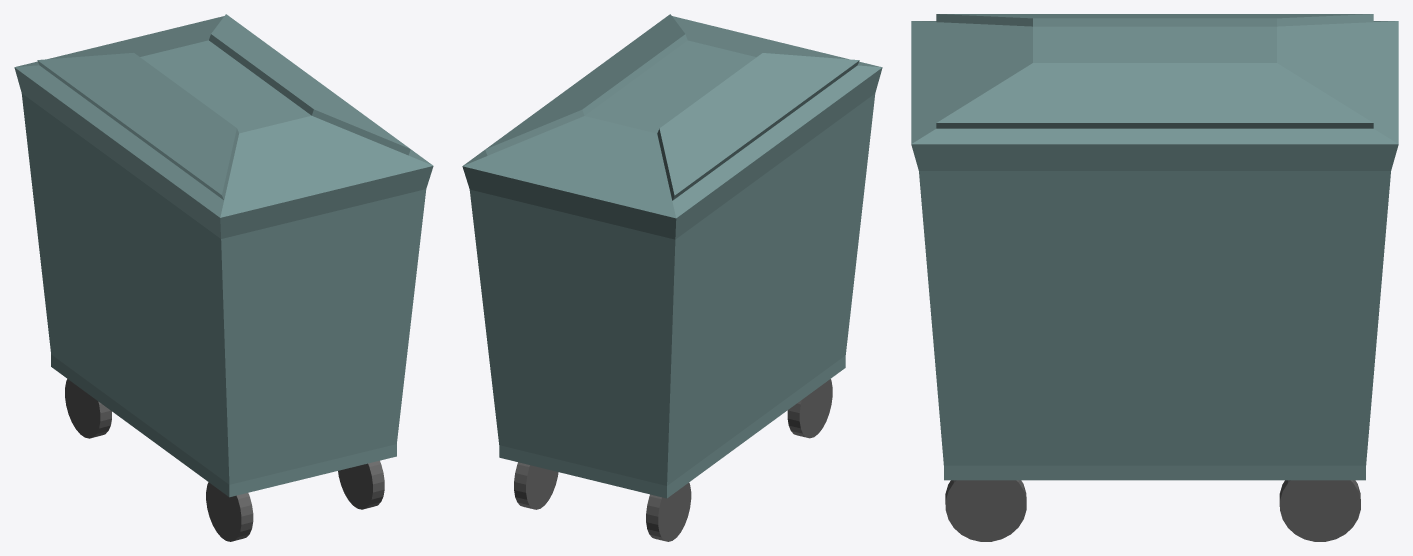
File: Kärl.glb
3 views of the same model, side by side, from view 1: azimuth 30°, elevation 25°; view 2: azimuth 150°, elevation 25°; view 3: azimuth 270°, elevation 25° (orthographic). The views are drawn at different scales.
Parts seen in each view (by area): view 1: imagetostl_mesh; view 2: imagetostl_mesh; view 3: imagetostl_mesh.
Boxes of the visible parts, x1=… form: imagetostl_mesh: x1=14, y1=14, x2=433, y2=541; imagetostl_mesh: x1=462, y1=14, x2=882, y2=541; imagetostl_mesh: x1=911, y1=14, x2=1398, y2=541.
Size of the model in its own units: 28.15 by 48.96 by 47.05.
